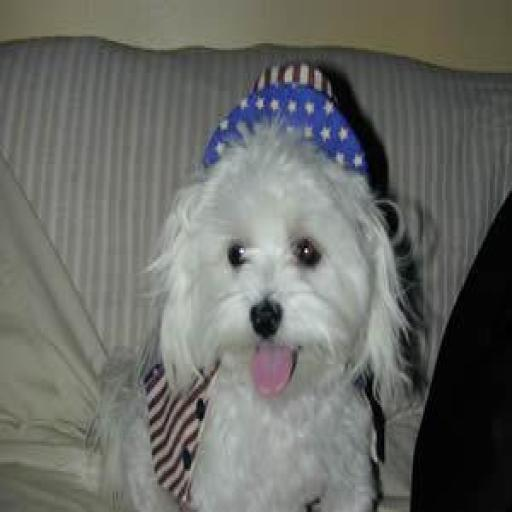dog_face: (160, 140, 412, 402)
